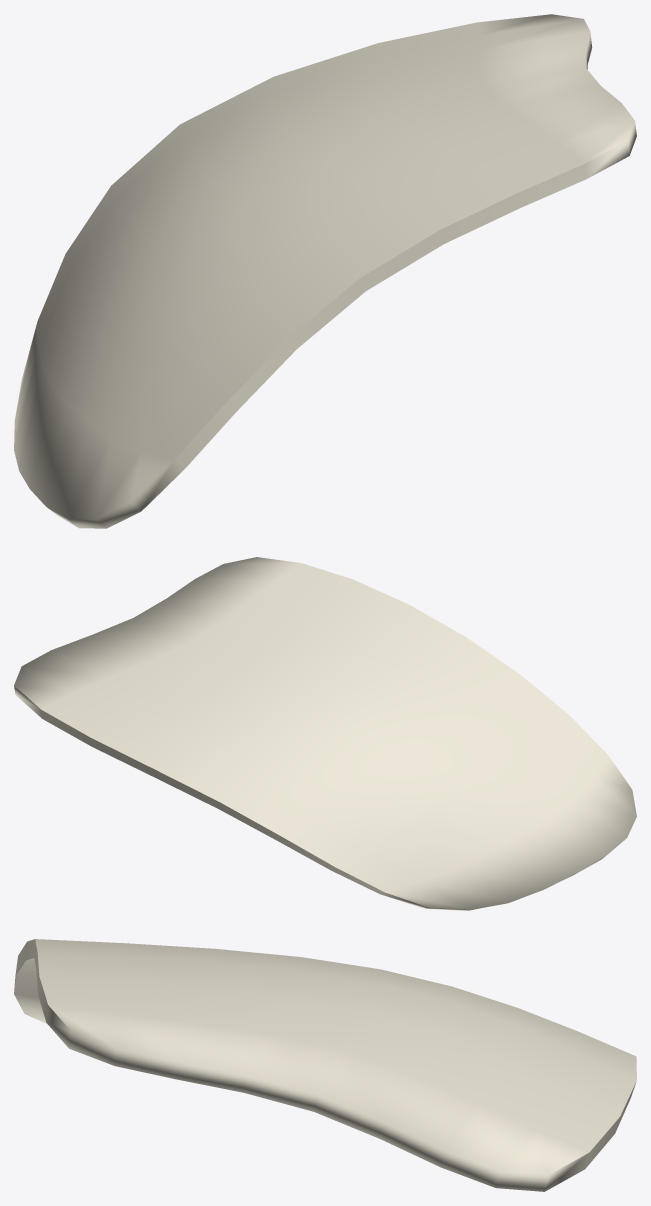
The picture shows the model from 3 angles, top to bottom: view 1: azimuth 30°, elevation 25°; view 2: azimuth 150°, elevation 25°; view 3: azimuth 270°, elevation 25°; orthographic projection. The views are drawn at different scales.
Parts seen in each view (by area): view 1: ZA_6dcf1d82fdd124c1; view 2: ZA_6dcf1d82fdd124c1; view 3: ZA_6dcf1d82fdd124c1.
Part boxes in pixels (left/top/right/bottom): ZA_6dcf1d82fdd124c1: left=14, top=14, right=636, bottom=528; ZA_6dcf1d82fdd124c1: left=14, top=557, right=636, bottom=910; ZA_6dcf1d82fdd124c1: left=14, top=939, right=636, bottom=1191.
Bounding box in the file's own units: 0.0236 × 0.00948 × 0.0163.
